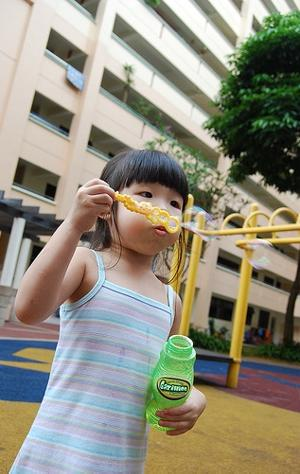person: (9, 150, 207, 473)
